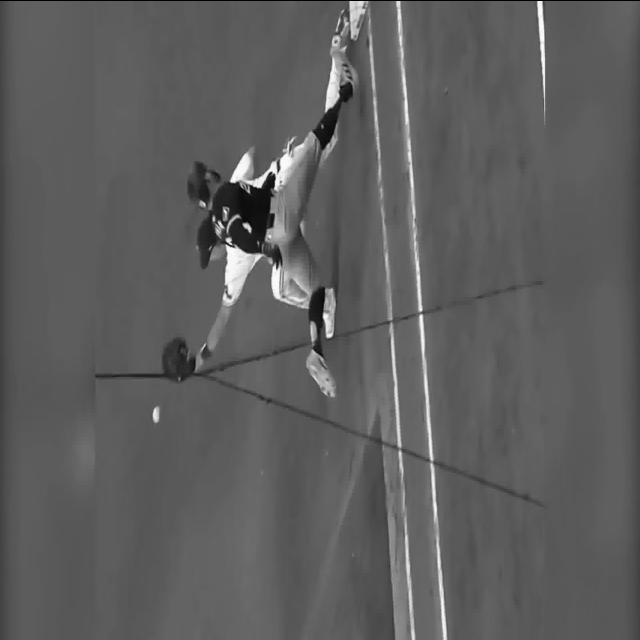base: (352, 0, 366, 39)
baseball: (152, 405, 160, 423)
baseball_glove: (160, 338, 194, 382)
shoe: (306, 348, 336, 398), (330, 52, 358, 102), (330, 8, 350, 54), (322, 287, 336, 339)
